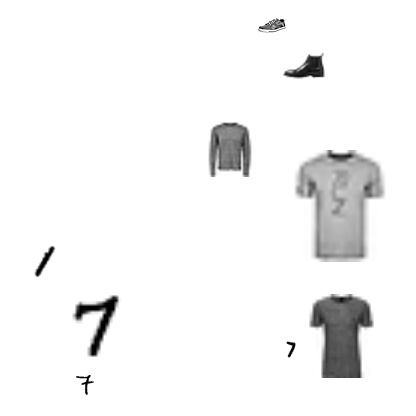1: (23, 239, 65, 281)
7: (55, 275, 139, 359), (71, 368, 99, 396), (280, 337, 302, 359)
Ankle_boot: (283, 44, 325, 86)
Pullover: (201, 121, 257, 177)
Sneaker: (258, 11, 286, 39)
T-shirt/top: (284, 150, 396, 262), (298, 294, 382, 378)
